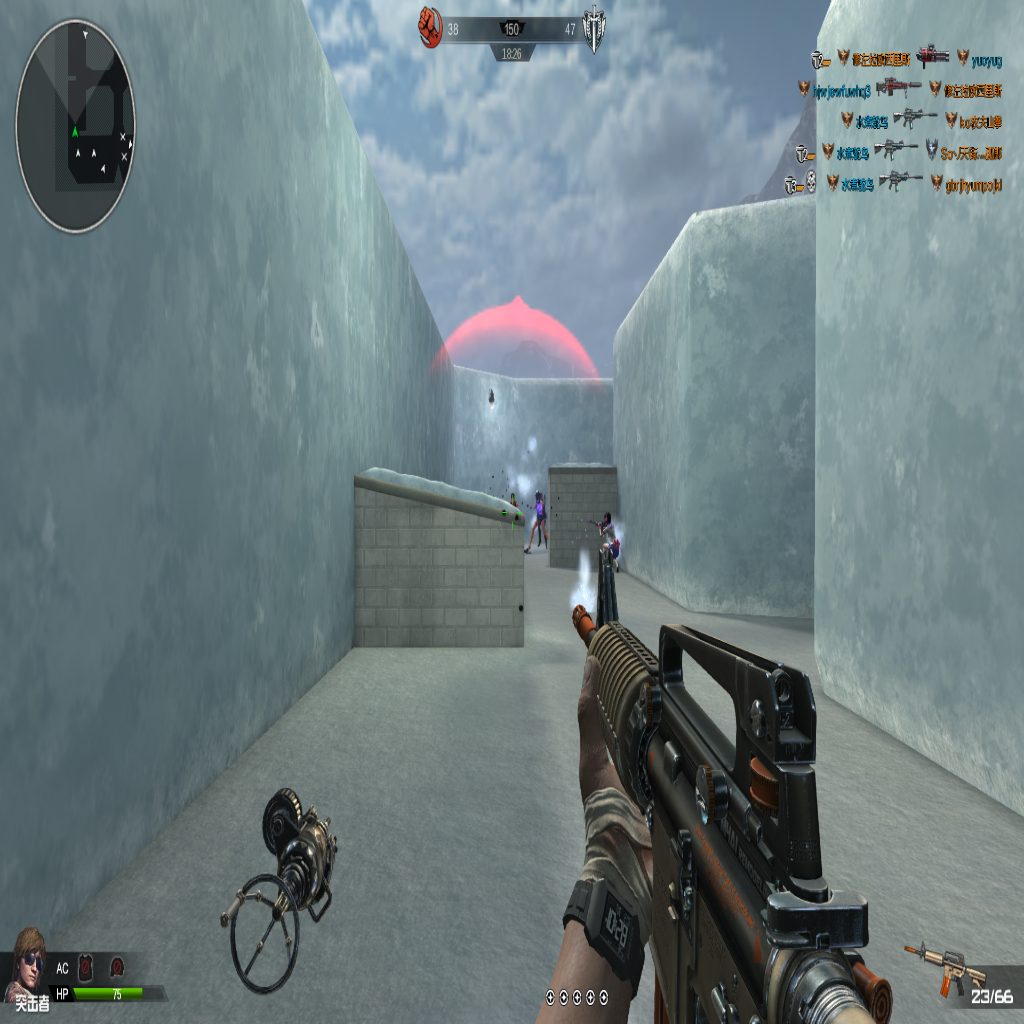ct: (528, 492, 548, 551)
